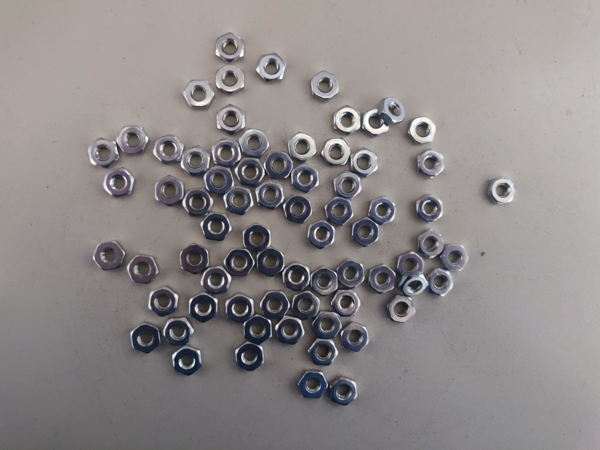nut: (93, 241, 126, 273), (127, 254, 159, 286), (147, 286, 179, 318), (130, 323, 162, 355), (163, 317, 195, 349), (172, 345, 204, 377), (234, 341, 265, 374), (242, 314, 273, 347), (215, 31, 246, 63), (182, 188, 213, 219), (203, 165, 234, 196), (104, 168, 135, 198), (89, 138, 120, 168), (153, 134, 184, 164), (153, 176, 184, 206), (215, 105, 246, 135), (184, 78, 215, 108), (215, 64, 246, 94), (287, 132, 318, 162), (211, 138, 242, 168), (180, 145, 211, 175), (224, 186, 255, 216), (235, 156, 266, 186), (240, 129, 271, 159), (298, 371, 328, 401), (309, 338, 339, 368), (276, 317, 306, 347), (225, 294, 255, 324), (180, 244, 210, 274), (201, 212, 231, 242), (118, 125, 148, 155), (256, 53, 286, 83), (333, 105, 363, 135), (322, 137, 352, 167), (291, 163, 321, 193), (282, 262, 312, 292), (336, 260, 366, 290), (310, 267, 340, 297), (310, 71, 341, 100), (283, 195, 314, 224), (306, 221, 337, 250), (241, 224, 272, 253), (416, 149, 447, 178), (367, 196, 398, 225), (350, 217, 381, 246), (323, 197, 354, 226), (333, 170, 364, 199), (329, 377, 358, 407), (341, 323, 370, 353), (189, 292, 218, 322), (256, 248, 286, 277), (201, 266, 231, 295), (414, 194, 444, 223), (408, 115, 438, 144), (260, 290, 289, 320), (368, 264, 397, 294), (487, 176, 517, 205), (224, 249, 255, 277), (331, 289, 360, 318), (349, 148, 379, 176), (264, 152, 294, 180), (255, 181, 285, 209), (387, 295, 415, 324), (378, 96, 406, 124), (361, 108, 389, 136), (313, 311, 341, 339), (427, 268, 454, 297), (295, 292, 321, 322), (400, 272, 428, 299), (419, 229, 445, 258), (442, 243, 468, 272), (420, 229, 446, 258), (397, 251, 424, 278)
